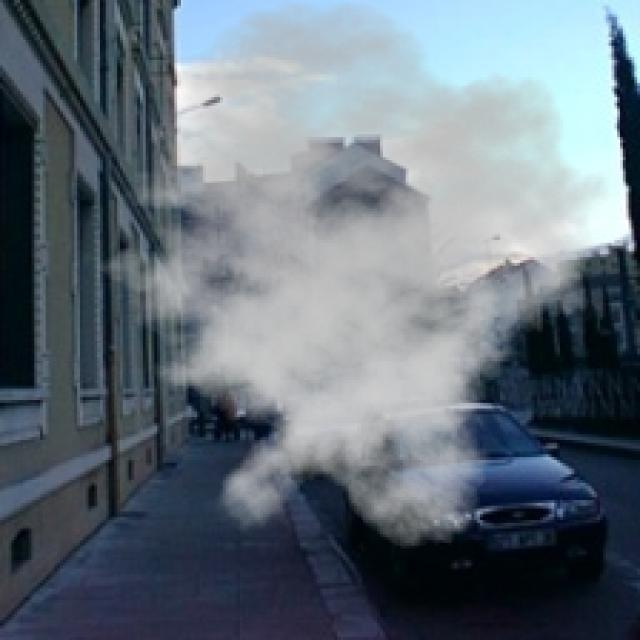Smoke: (71, 0, 623, 552)
